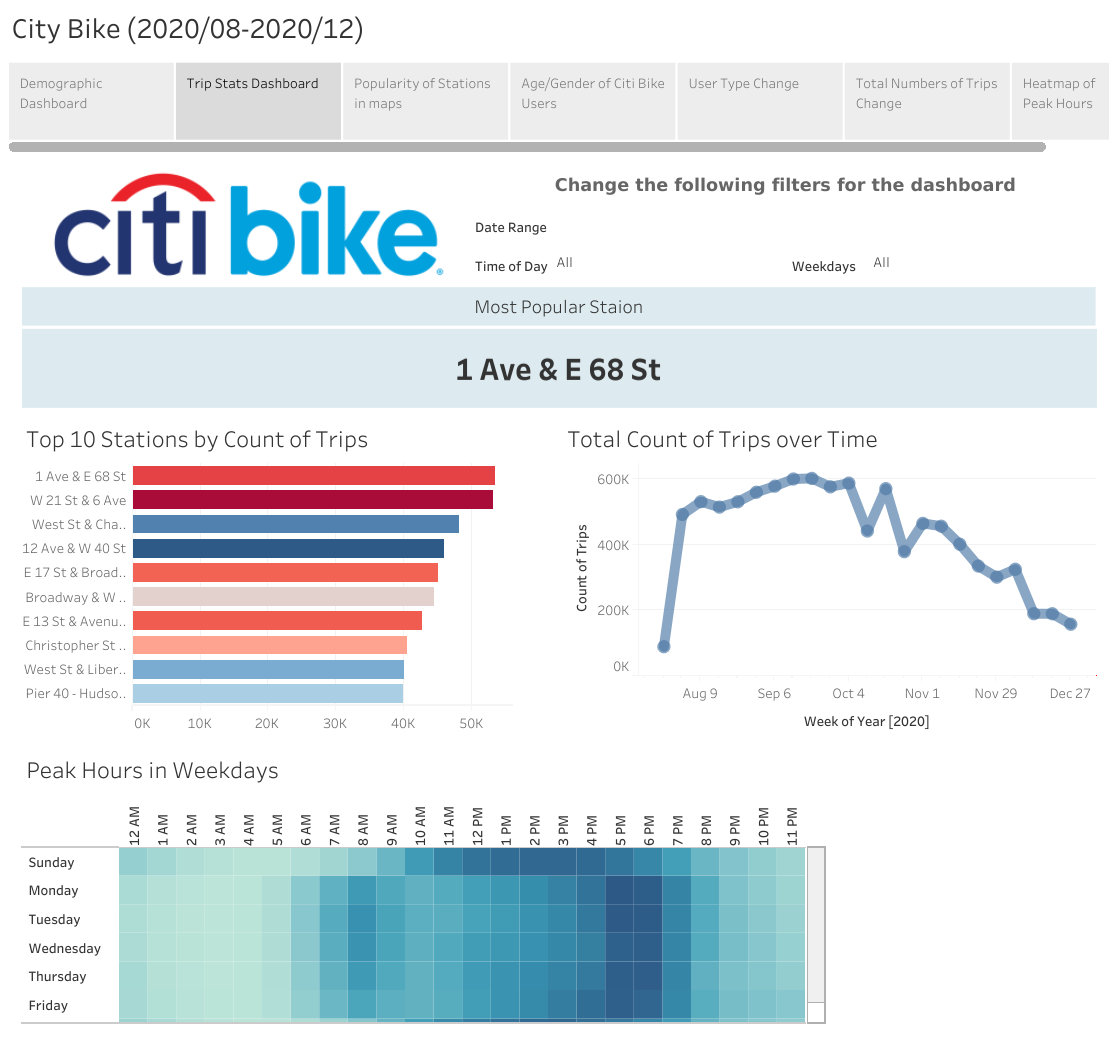

The page's visual inventory and layout, read from the dashboard file:
{"tool":"tableau","page":{"name":"Trip Stats","canvas":[1000,800],"ordinal":1},"visuals":[{"type":"worksheet","box":[0,0,1000,800]},{"type":"worksheet","param":"C:/Users/ndeng/Desktop/GitHub/Tableau-Challenge/NYC/citibikelogo.png","box":[8,8,412,106]},{"type":"worksheet","box":[420,8,572,35]},{"type":"worksheet","box":[420,43,572,38.8]},{"type":"worksheet","title":"Trip Count","mark":"Automatic","rows":["Calculation_1876875162985181186"],"cols":["starttime"],"param":"[federated.0hue5ww17iiv5p152rjf50vz4pfi].[none:starttime:qk]","box":[420,43,572,38.8]},{"type":"worksheet","title":"Heatmap-Trips","mark":"Automatic","rows":["starttime"],"cols":["starttime"],"param":"[federated.0hue5ww17iiv5p152rjf50vz4pfi].[hr:starttime:ok]","box":[420,81.8,288,32.2]},{"type":"worksheet","title":"Heatmap-Trips","mark":"Automatic","rows":["starttime"],"cols":["starttime"],"param":"[federated.0hue5ww17iiv5p152rjf50vz4pfi].[wd:starttime:ok]","box":[708,81.8,284,32.2]},{"type":"worksheet","title":"Card-Popular Station","mark":"Automatic","box":[8,114,984,117]},{"type":"worksheet","param":"horz","box":[8,231,984,561]},{"type":"worksheet","box":[8,231,984,561]},{"type":"worksheet","title":"Bar-Stations","mark":"Automatic","rows":["start station name"],"cols":["Calculation_1876875162985181186"],"box":[8,231,492,301.2]},{"type":"worksheet","title":"Trip Count","mark":"Automatic","rows":["Calculation_1876875162985181186"],"cols":["starttime"],"box":[500,231,492,301.2]},{"type":"worksheet","title":"Heatmap-Trips","mark":"Automatic","rows":["starttime"],"cols":["starttime"],"box":[8,532.2,984,259.8]}]}

Visuals, with their boxes on the page's 1000x800 design canvas (x1, y1, x2, y2). These are canvas units, not pixel positions in the 1117x1059 screenshot, which may show the page scaled, cropped or inside an application window:
worksheet: (0,0,1000,800)
worksheet: (8,8,420,114)
worksheet: (420,8,992,43)
worksheet: (420,43,992,82)
"Trip Count" worksheet: (420,43,992,82)
"Heatmap-Trips" worksheet: (420,82,708,114)
"Heatmap-Trips" worksheet: (708,82,992,114)
"Card-Popular Station" worksheet: (8,114,992,231)
worksheet: (8,231,992,792)
worksheet: (8,231,992,792)
"Bar-Stations" worksheet: (8,231,500,532)
"Trip Count" worksheet: (500,231,992,532)
"Heatmap-Trips" worksheet: (8,532,992,792)
